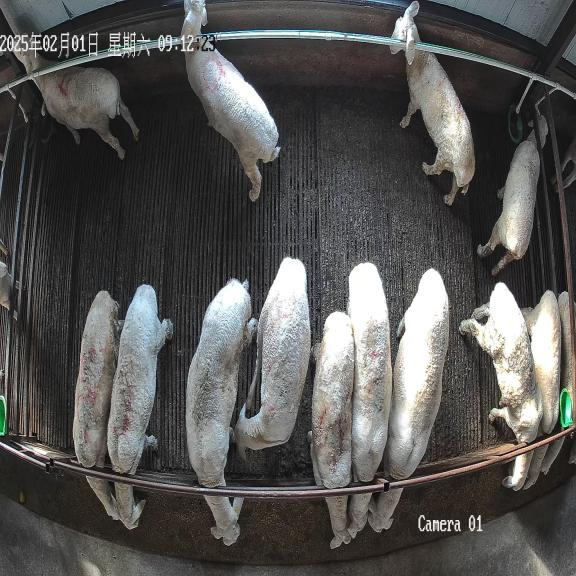drinking: (477, 108, 548, 276)
eating: (368, 269, 449, 532), (186, 278, 257, 546), (459, 282, 543, 490), (108, 284, 173, 529), (343, 262, 392, 543), (73, 290, 123, 520), (310, 311, 355, 549), (522, 290, 561, 489)
stand: (180, 0, 280, 200), (390, 0, 475, 206), (9, 35, 139, 159), (234, 258, 310, 460)
